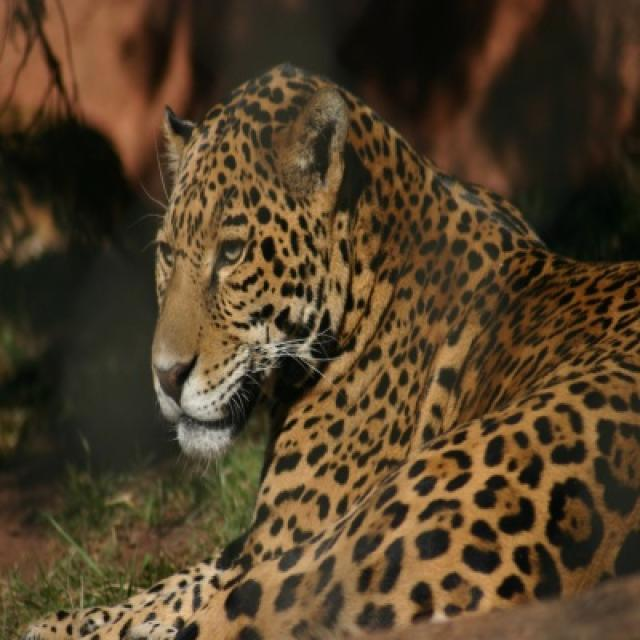Jaguar: (48, 62, 638, 638)
